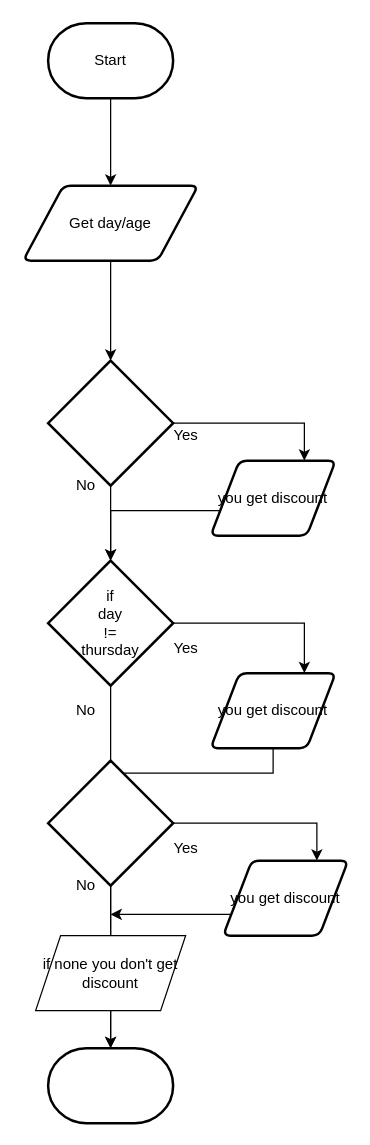
Some shapes in this 370 by 1145 pixel diagram are drawn without their labels. The shapes that lost their labels are listed below. From the top down, each one's box as (x1, y1, x2, y2) in pixels, then its label:
(46, 359, 174, 486): if Value == tuesday
(46, 759, 174, 886): if age != 13 to 21
(46, 1046, 174, 1124): Stop
